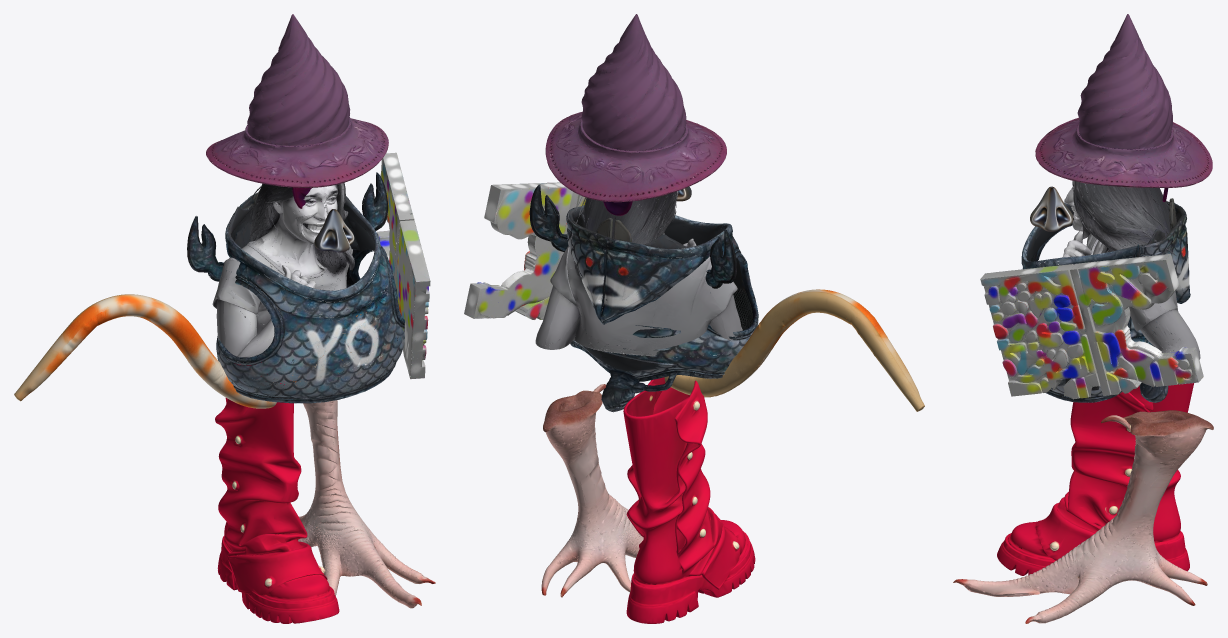
The model's file is FinalFight.glb.
3 views of the same model, side by side, from view 1: azimuth 30°, elevation 25°; view 2: azimuth 150°, elevation 25°; view 3: azimuth 270°, elevation 25° (orthographic). The views are drawn at different scales.
Visible parts, largest first — view 1: FinalFight_scorpion, FinalFight_boot, FinalFight_helm, FinalFight_bust, FinalFight_chicken, FinalFight_snake, FinalFight_tablet, FinalFight_nose; view 2: FinalFight_scorpion, FinalFight_boot, FinalFight_helm, FinalFight_bust, FinalFight_chicken, FinalFight_tablet, FinalFight_snake; view 3: FinalFight_tablet, FinalFight_helm, FinalFight_chicken, FinalFight_boot, FinalFight_bust, FinalFight_scorpion, FinalFight_nose.
Part boxes in pixels (x1,y1,x2,y2): FinalFight_scorpion: (187, 172, 404, 403); FinalFight_boot: (215, 362, 339, 623); FinalFight_helm: (206, 14, 388, 208); FinalFight_bust: (212, 182, 354, 362); FinalFight_chicken: (298, 373, 435, 608); FinalFight_snake: (14, 294, 374, 408); FinalFight_tablet: (377, 152, 430, 379); FinalFight_nose: (314, 209, 354, 252); FinalFight_scorpion: (529, 184, 758, 412); FinalFight_boot: (623, 377, 755, 623); FinalFight_helm: (545, 14, 726, 215); FinalFight_bust: (535, 191, 743, 356); FinalFight_chicken: (541, 384, 643, 597); FinalFight_tablet: (464, 182, 586, 319); FinalFight_snake: (664, 289, 924, 411); FinalFight_tablet: (980, 254, 1203, 399); FinalFight_helm: (1035, 14, 1212, 201); FinalFight_chicken: (953, 410, 1213, 623); FinalFight_boot: (997, 383, 1193, 575); FinalFight_bust: (1062, 180, 1200, 359); FinalFight_scorpion: (1021, 198, 1190, 402); FinalFight_nose: (1030, 186, 1073, 231).
Bounding box in the file's own units: 2.1 × 2.75 × 1.14.
8 materials, 8 textured.
